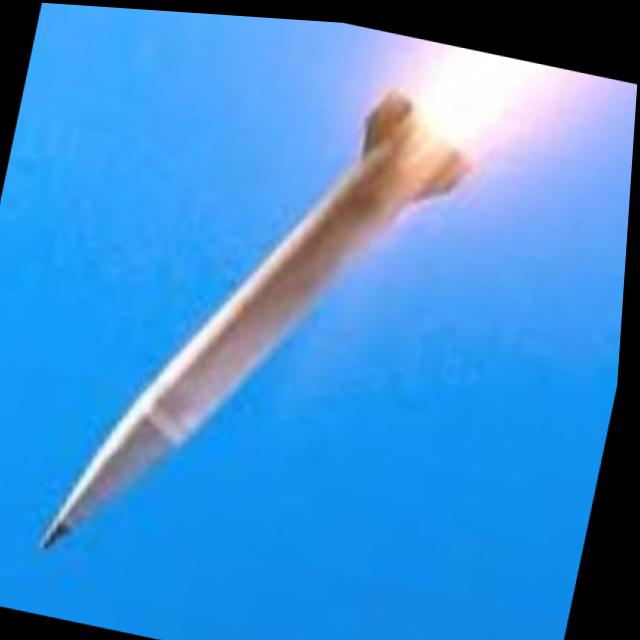missile: (41, 34, 490, 614)
